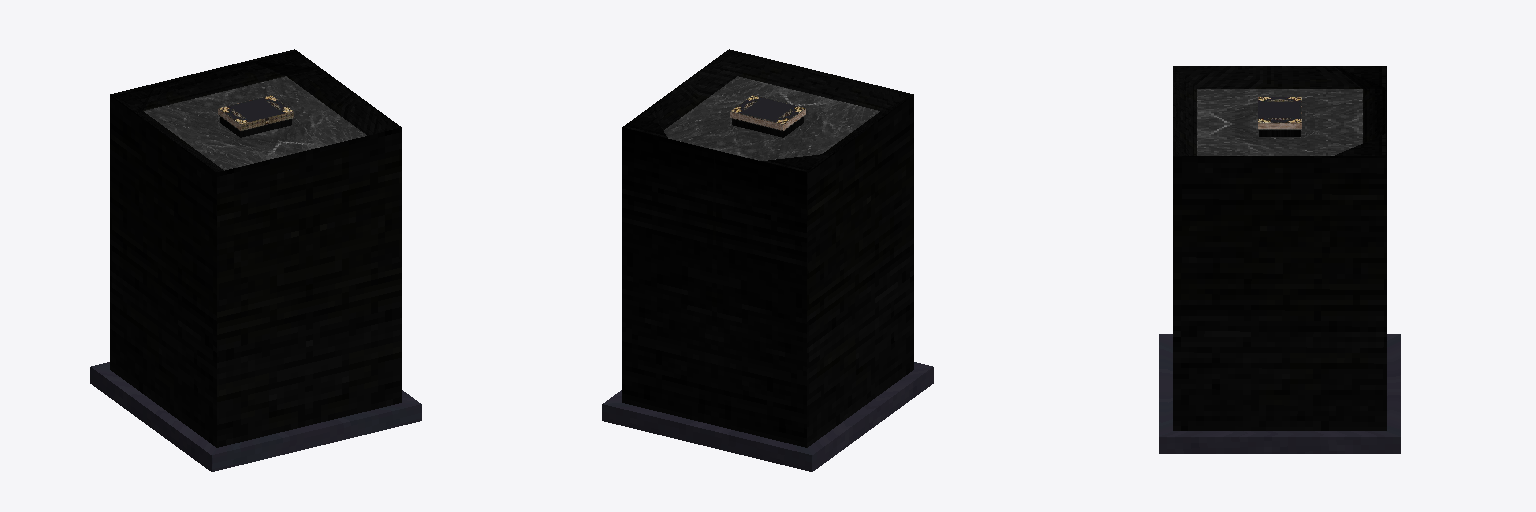
The picture shows the model from 3 angles: view 1: azimuth 30°, elevation 25°; view 2: azimuth 150°, elevation 25°; view 3: azimuth 270°, elevation 25°; orthographic projection.
Visible parts, largest first — view 1: Cube; view 2: Cube; view 3: Cube.
Boxes of the visible parts, x1,y1,x2,y2 form: Cube: [90, 49, 421, 471]; Cube: [602, 49, 933, 471]; Cube: [1159, 66, 1400, 453].
Bounding box in the file's own units: 0.2271 × 0.3022 × 0.2271.
1 materials, 1 textured.